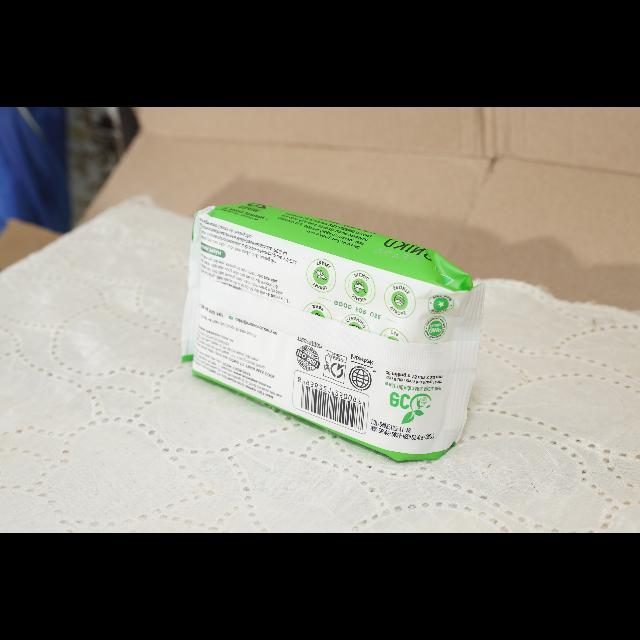khan_giay: (181, 203, 485, 461)
